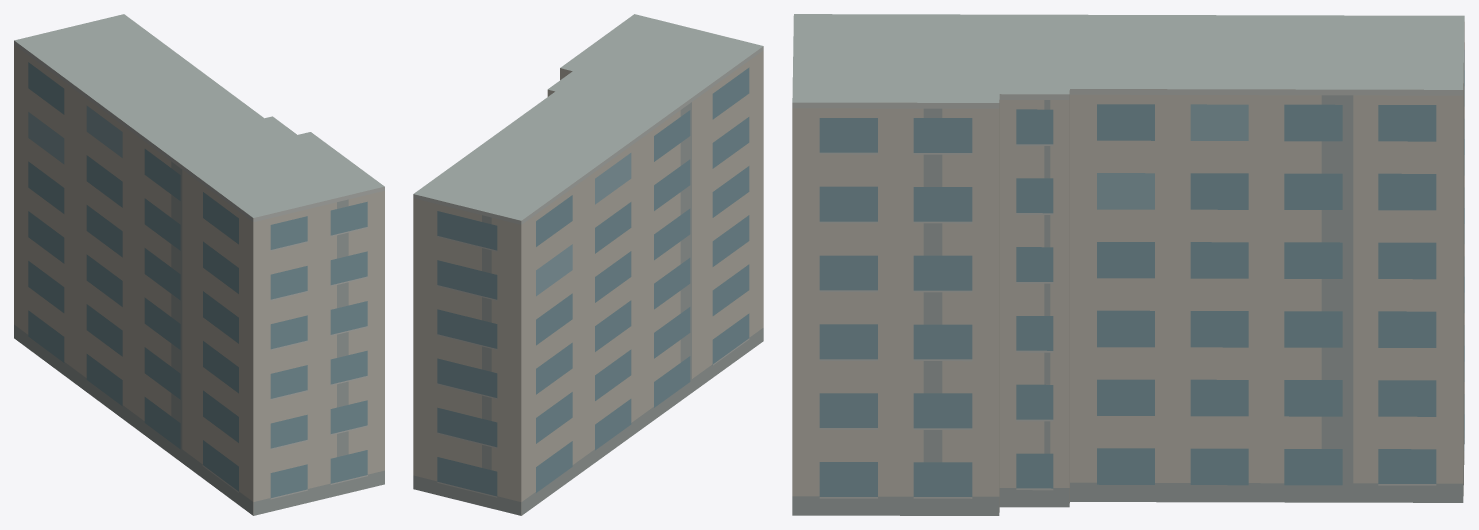
File: survey-upis-33005878.glb
3 views of the same model, side by side, from view 1: azimuth 30°, elevation 25°; view 2: azimuth 150°, elevation 25°; view 3: azimuth 270°, elevation 25° (orthographic). The views are drawn at different scales.
Parts seen in each view (by area): view 1: survey-upis-33005878.tmp; view 2: survey-upis-33005878.tmp; view 3: survey-upis-33005878.tmp.
Boxes of the visible parts, x1,y1,x2,y2 form: survey-upis-33005878.tmp: (14, 14, 384, 515); survey-upis-33005878.tmp: (413, 14, 763, 515); survey-upis-33005878.tmp: (792, 14, 1464, 515).
Bounding box in the file's own units: 8.05 × 17.4 × 25.68.
